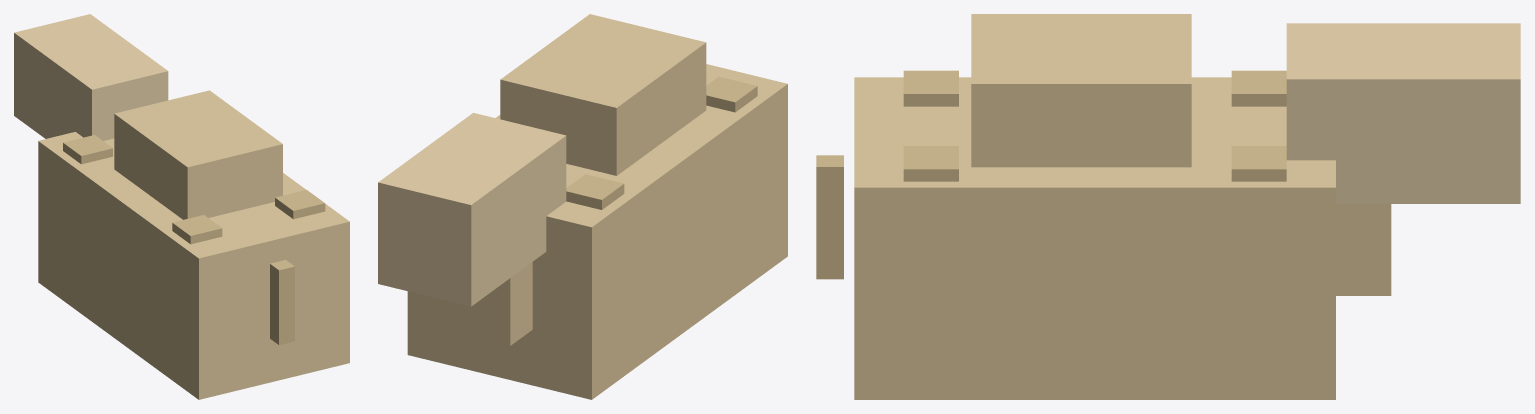
The model's file is camel.glb.
3 views of the same model, side by side, from view 1: azimuth 30°, elevation 25°; view 2: azimuth 150°, elevation 25°; view 3: azimuth 270°, elevation 25° (orthographic). The views are drawn at different scales.
Visible parts, largest first — view 1: body, hump_back, headmesh, tail, legmesh_3, legmesh_1, legmesh_0; view 2: body, headmesh, hump_back, hump_front, legmesh_0, legmesh_1; view 3: body, headmesh, hump_back, hump_front, tail, legmesh_0, legmesh_1, legmesh_2, legmesh_3.
Part boxes in pixels (x1=…): body: x1=38, y1=132, x2=349, y2=399; hump_back: x1=114, y1=90, x2=282, y2=219; headmesh: x1=14, y1=14, x2=168, y2=140; tail: x1=270, y1=260, x2=294, y2=345; legmesh_3: x1=275, y1=190, x2=325, y2=219; legmesh_1: x1=172, y1=215, x2=222, y2=244; legmesh_0: x1=63, y1=135, x2=112, y2=164; body: x1=407, y1=64, x2=787, y2=399; headmesh: x1=378, y1=113, x2=566, y2=306; hump_back: x1=500, y1=14, x2=706, y2=175; hump_front: x1=444, y1=262, x2=532, y2=345; legmesh_0: x1=566, y1=174, x2=624, y2=209; legmesh_1: x1=706, y1=76, x2=757, y2=112; body: x1=854, y1=77, x2=1335, y2=399; headmesh: x1=1286, y1=23, x2=1520, y2=203; hump_back: x1=971, y1=14, x2=1191, y2=167; hump_front: x1=1336, y1=204, x2=1391, y2=295; tail: x1=816, y1=155, x2=843, y2=279; legmesh_0: x1=1231, y1=70, x2=1286, y2=106; legmesh_1: x1=903, y1=70, x2=958, y2=106; legmesh_2: x1=1231, y1=146, x2=1286, y2=181; legmesh_3: x1=903, y1=146, x2=958, y2=181.
Bounding box in the file's own units: 0.95 × 1.18 × 2.56.
